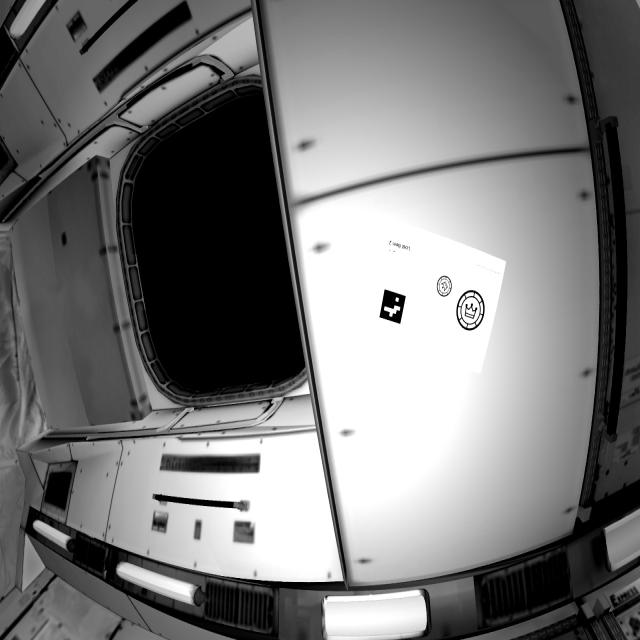coin: (454, 287, 487, 334), (436, 274, 455, 300)
